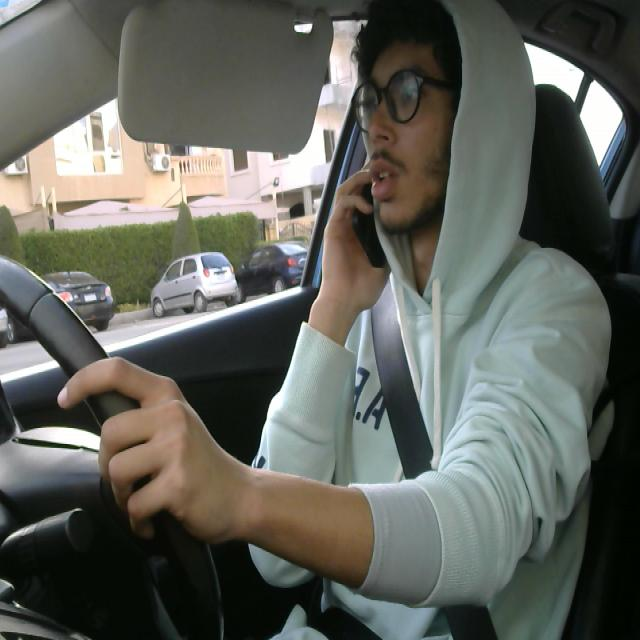mobile use: (355, 134, 427, 272)
